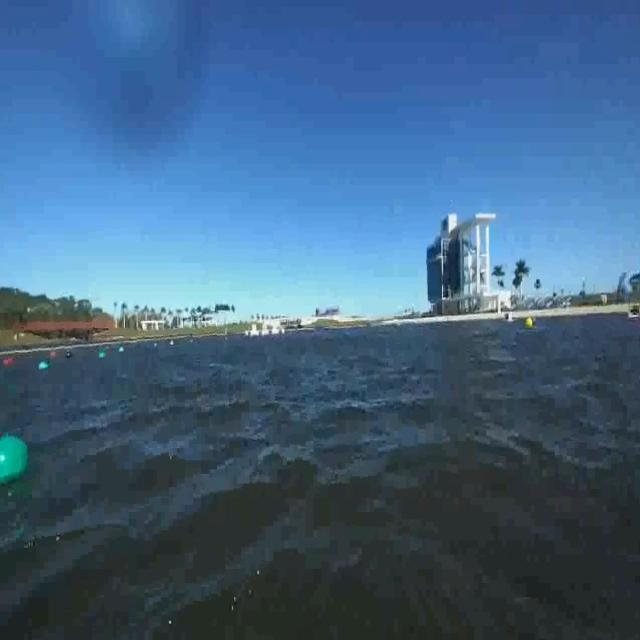green-buoy: (0, 435, 30, 488)
red-buoy: (4, 358, 15, 365)
yellow-buoy: (526, 316, 534, 330)
